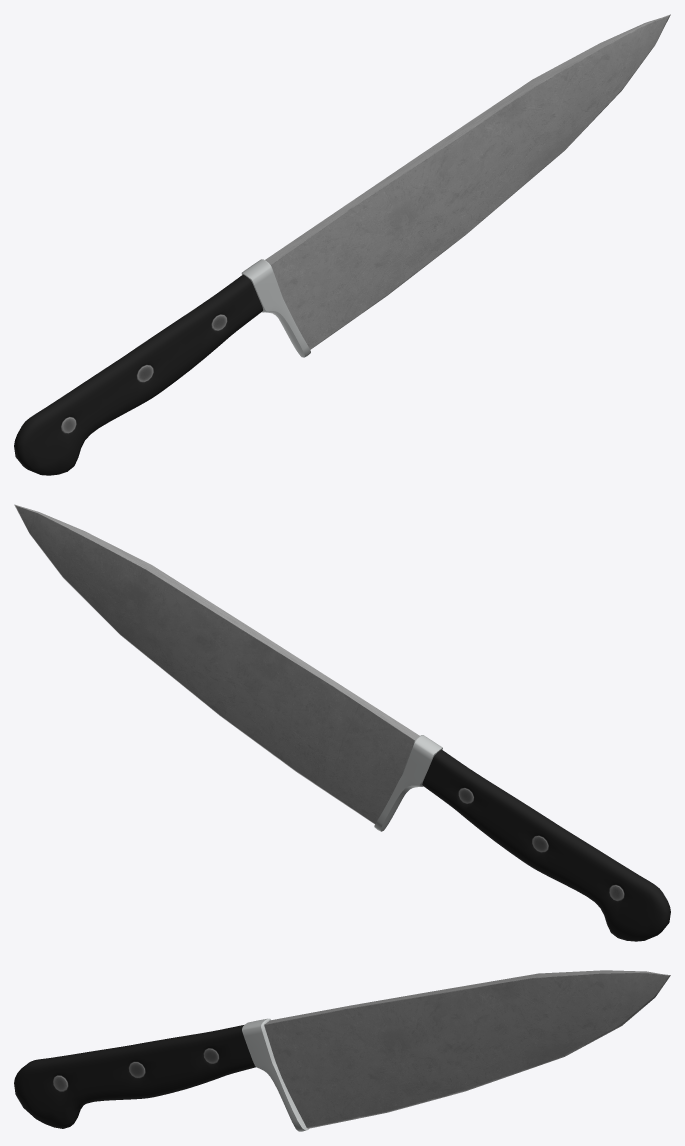
Rendered from kitchen_knife.glb.
3 renders of one model, top to bottom at view 1: azimuth 30°, elevation 25°; view 2: azimuth 150°, elevation 25°; view 3: azimuth 330°, elevation 25°, orthographic. The views are drawn at different scales.
Parts seen in each view (by area): view 1: Knife; view 2: Knife; view 3: Knife.
Part boxes in pixels (x1,y1,x2,y2): Knife: (14, 14, 670, 475); Knife: (14, 504, 670, 941); Knife: (14, 970, 670, 1131).
Size of the model in its own units: 0.3415 by 0.1478 by 0.0137.
1 material, 1 textured.
